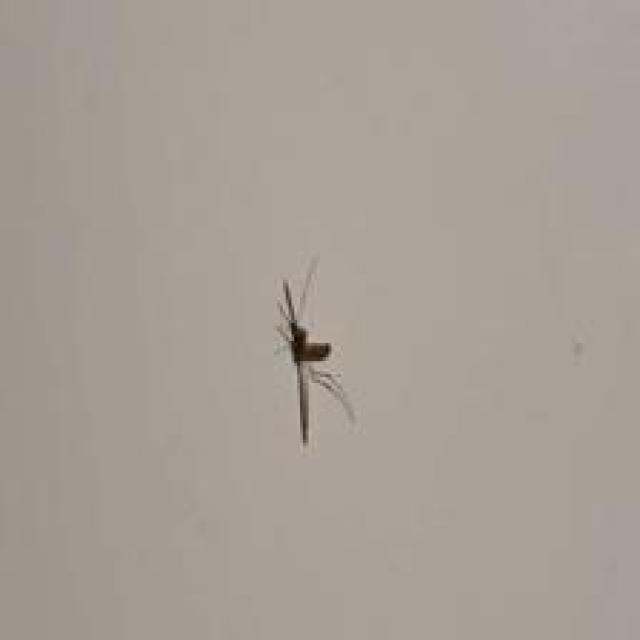Culex: (272, 257, 357, 446)
